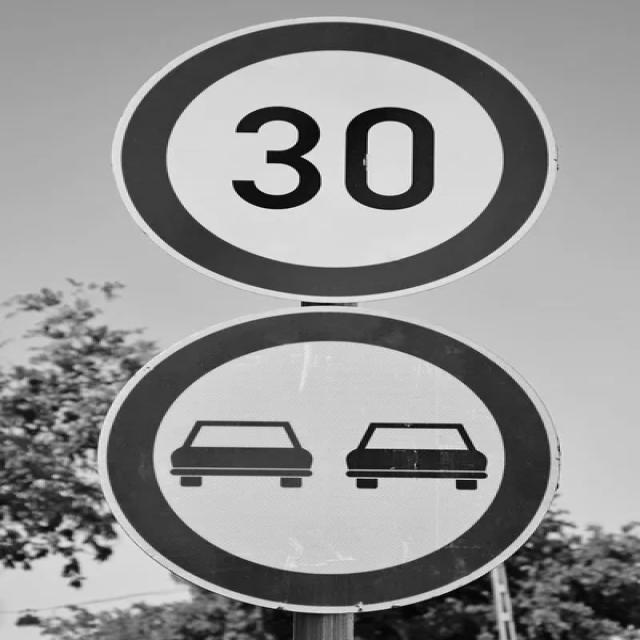forbidden: (109, 305, 563, 616)
speed_30: (109, 13, 556, 299)
